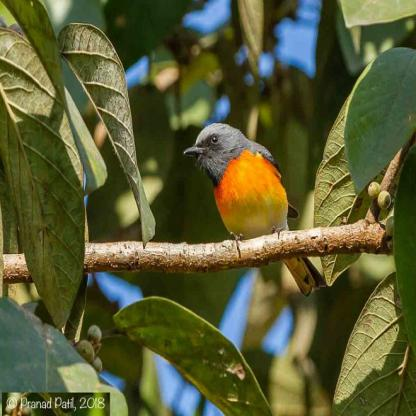Burung: (182, 122, 324, 298)
